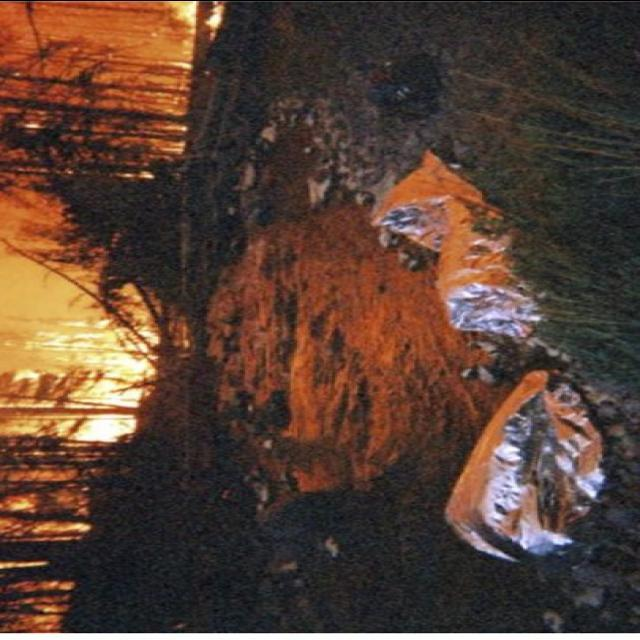Fire: (0, 263, 153, 446)
